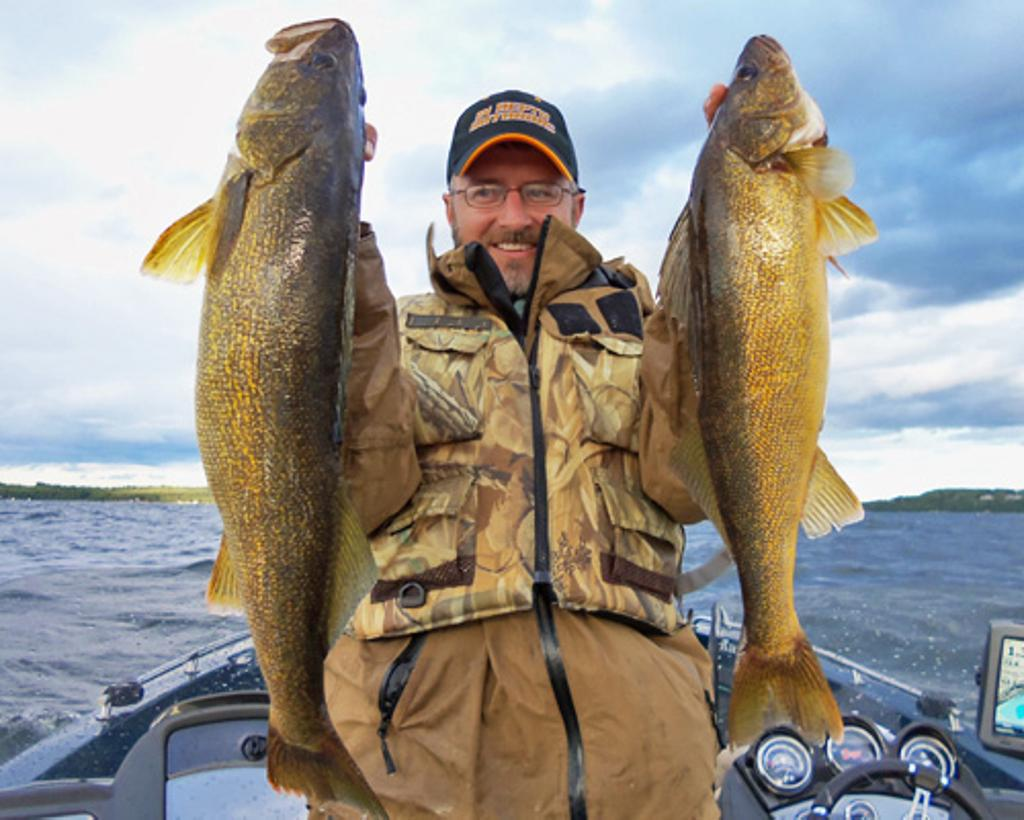face: (453, 143, 577, 297)
